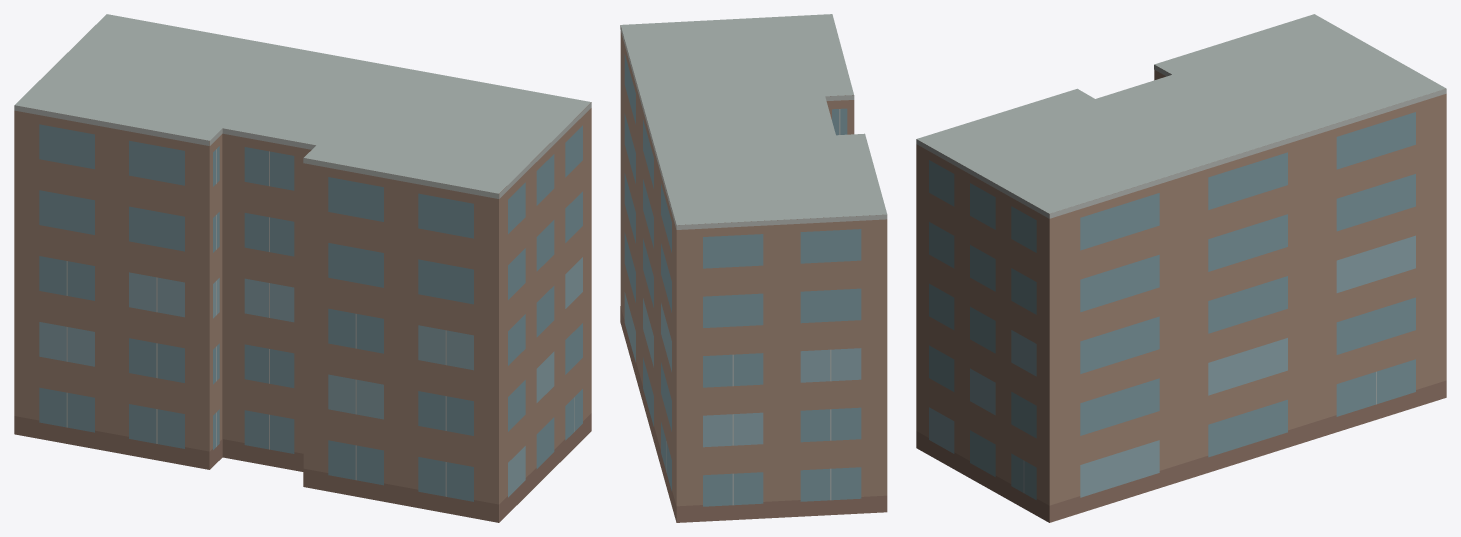
The model's file is survey-upis-32710449.glb.
The picture shows the model from 3 angles, left to right: view 1: azimuth 30°, elevation 25°; view 2: azimuth 150°, elevation 25°; view 3: azimuth 270°, elevation 25°; orthographic projection. The views are drawn at different scales.
Parts seen in each view (by area): view 1: survey-upis-32710449.tmp; view 2: survey-upis-32710449.tmp; view 3: survey-upis-32710449.tmp.
Boxes of the visible parts, x1=… form: survey-upis-32710449.tmp: x1=14, y1=14, x2=591, y2=522; survey-upis-32710449.tmp: x1=620, y1=14, x2=887, y2=522; survey-upis-32710449.tmp: x1=916, y1=14, x2=1446, y2=522.
Bounding box in the file's own units: 20.74 × 14.95 × 23.25.
